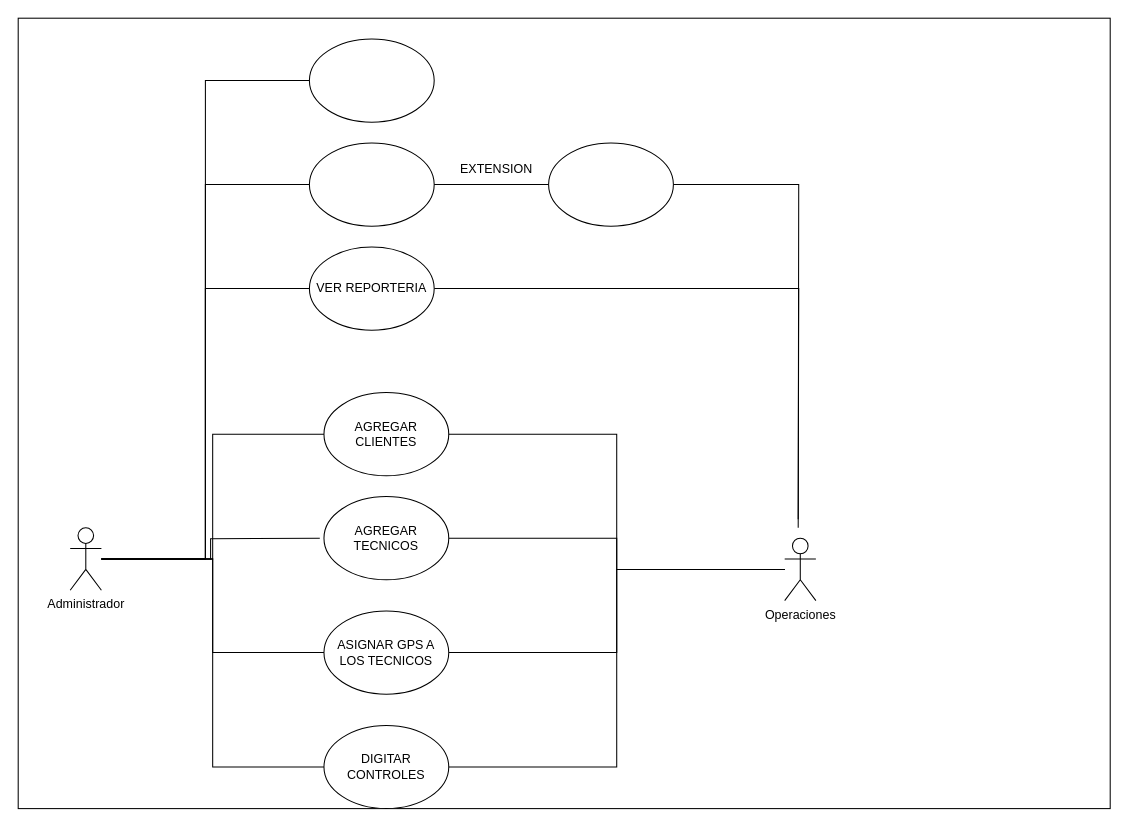
This 1128x827 diagram has some shape labels left out. Here are the shapes that lost their labels. From the top down, the box of each, then its label:
(308, 38, 434, 122): CREAR USUARIOS Y ASIGNAR ROLES
(308, 142, 434, 226): AGREGAR GPS AL INVENTARIO
(548, 142, 673, 226): Importar/exportar GPS vía Excel
